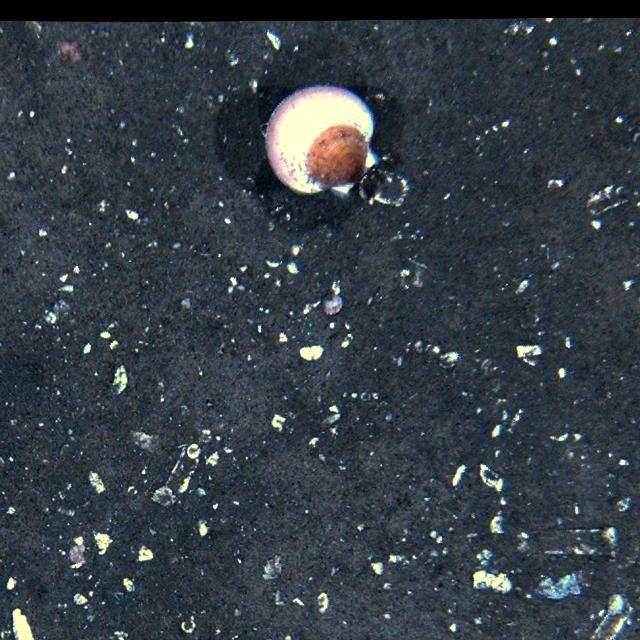scallop: (302, 128, 374, 188)
